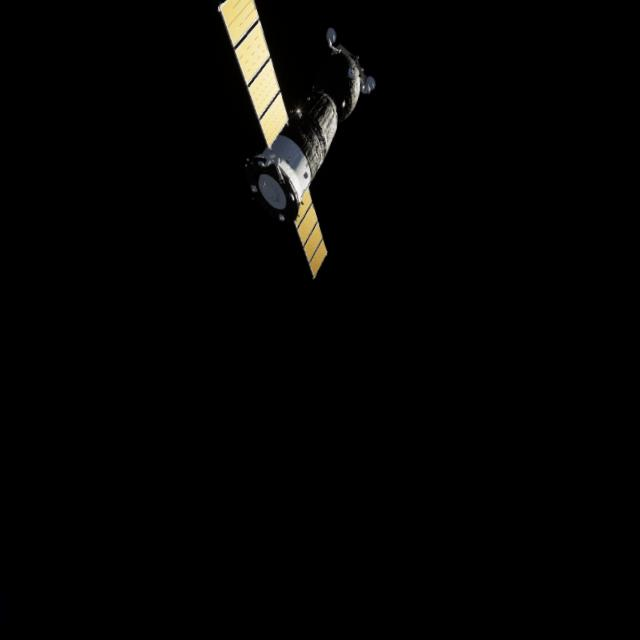Satellites revolving around earth: (195, 0, 381, 284)
